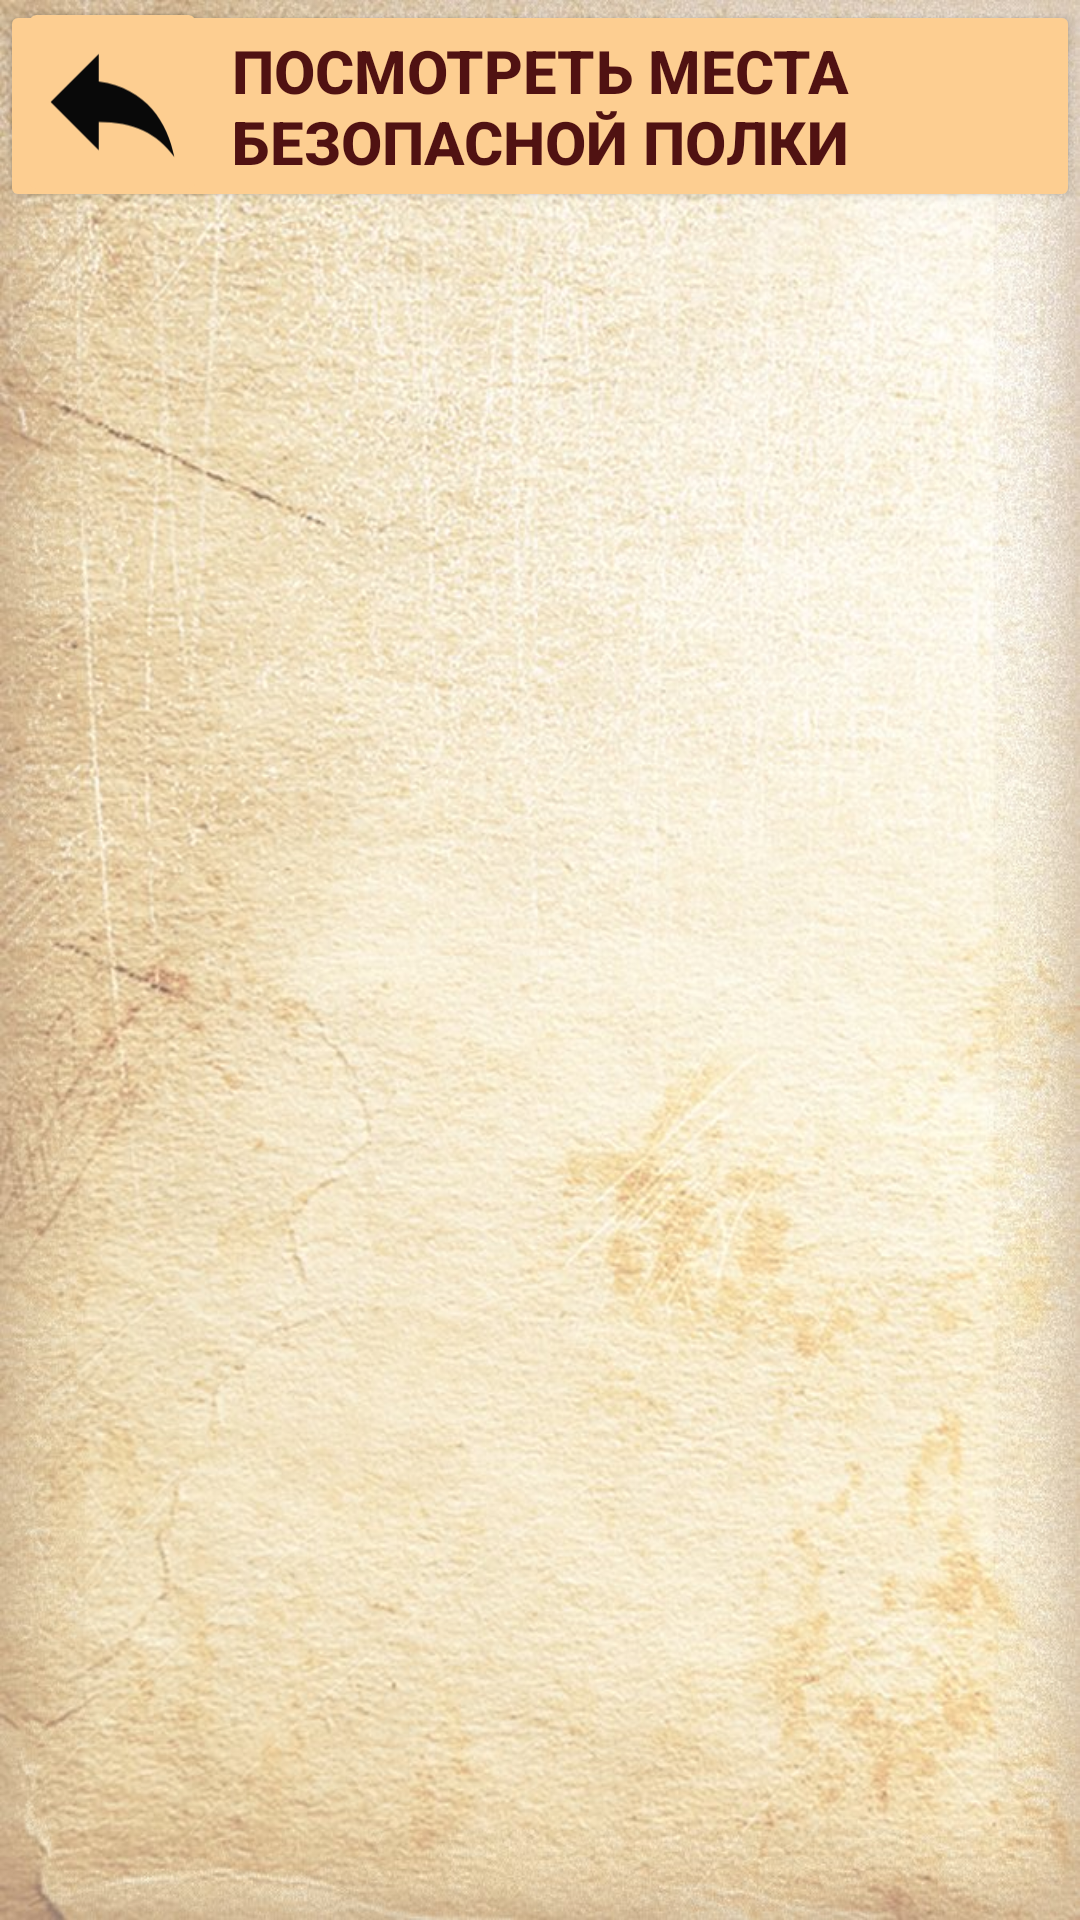

Screen size 1080×1920. Icon name, then its center in pixels as [x,y]:
back: [112,105]
